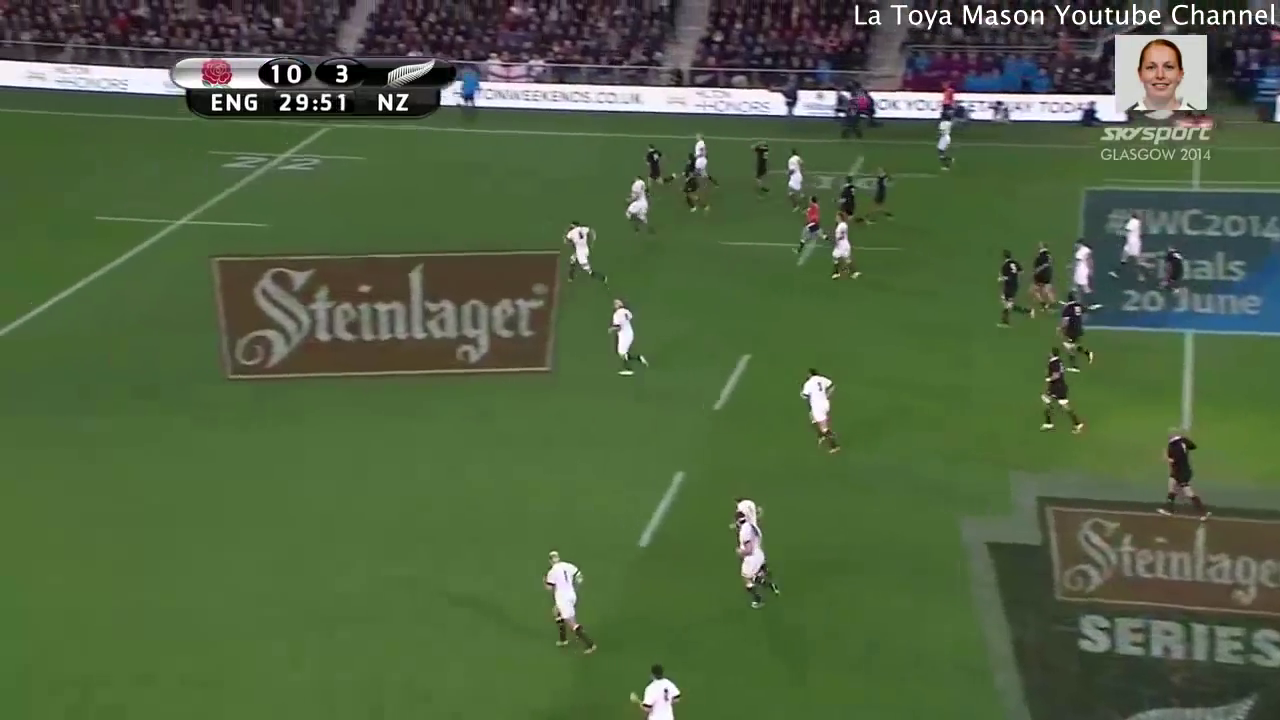10_metre: (710, 218, 902, 270), (761, 151, 929, 201)
player: (532, 547, 602, 660), (1149, 423, 1219, 522), (723, 511, 783, 615), (1035, 344, 1092, 439), (794, 361, 846, 456), (1051, 295, 1098, 378), (994, 246, 1037, 333), (624, 660, 686, 720), (560, 220, 612, 291), (605, 298, 649, 377), (1104, 208, 1149, 285), (790, 192, 836, 263), (1065, 235, 1105, 316), (824, 210, 865, 287), (1026, 241, 1063, 317), (620, 175, 658, 242), (861, 164, 897, 228), (677, 150, 713, 214), (638, 141, 683, 189), (1154, 243, 1188, 301), (725, 492, 767, 538), (926, 113, 957, 175), (691, 133, 724, 189), (785, 147, 811, 215), (826, 172, 859, 225), (746, 140, 774, 202)
